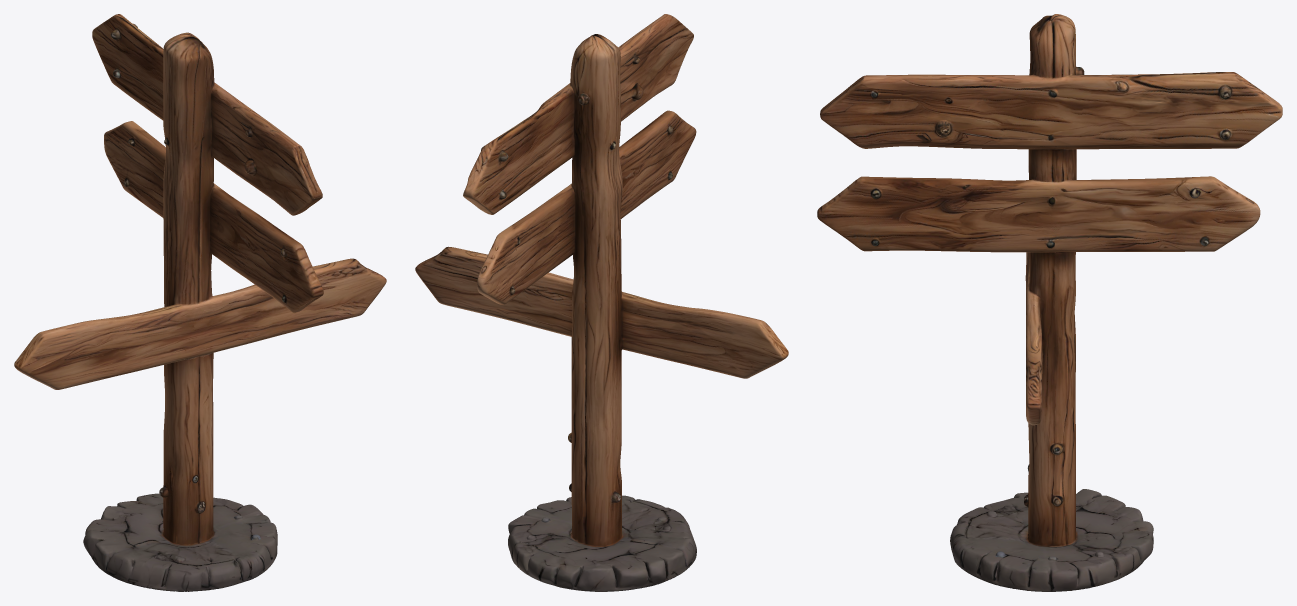
File: plaza-signpost.glb
3 views of the same model, side by side, from view 1: azimuth 30°, elevation 25°; view 2: azimuth 150°, elevation 25°; view 3: azimuth 270°, elevation 25° (orthographic). The views are drawn at different scales.
Parts seen in each view (by area): view 1: tripo_node_56712f2c-4e3d-4fc0-b045-d1fba37c4389; view 2: tripo_node_56712f2c-4e3d-4fc0-b045-d1fba37c4389; view 3: tripo_node_56712f2c-4e3d-4fc0-b045-d1fba37c4389.
Boxes of the visible parts, x1,y1,x2,y2 form: tripo_node_56712f2c-4e3d-4fc0-b045-d1fba37c4389: (14, 14, 386, 591); tripo_node_56712f2c-4e3d-4fc0-b045-d1fba37c4389: (415, 14, 788, 591); tripo_node_56712f2c-4e3d-4fc0-b045-d1fba37c4389: (817, 14, 1282, 591).
Bounding box in the file's own units: 1.87 × 2.5 × 1.96.
Materials: 1 (1 with a texture image).
